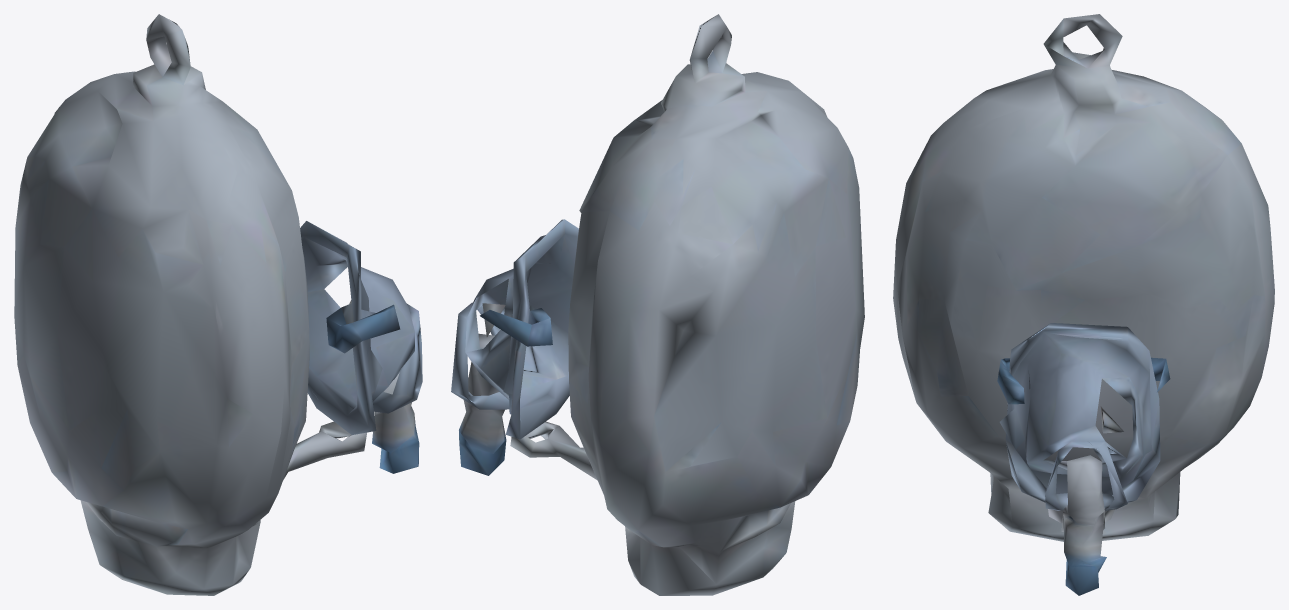
File: bvm.glb
3 renders of one model, left to right at view 1: azimuth 30°, elevation 25°; view 2: azimuth 150°, elevation 25°; view 3: azimuth 270°, elevation 25°, orthographic. The views are drawn at different scales.
Visible parts, largest first — view 1: tripo_node_4502c75b-7213-44ac-bf86-89a2121461b4; view 2: tripo_node_4502c75b-7213-44ac-bf86-89a2121461b4; view 3: tripo_node_4502c75b-7213-44ac-bf86-89a2121461b4.
Boxes of the visible parts, x1,y1,x2,y2 form: tripo_node_4502c75b-7213-44ac-bf86-89a2121461b4: [14, 14, 422, 595]; tripo_node_4502c75b-7213-44ac-bf86-89a2121461b4: [451, 14, 864, 595]; tripo_node_4502c75b-7213-44ac-bf86-89a2121461b4: [893, 14, 1274, 595].
Size of the model in its own units: 0.2076 by 0.3 by 0.2066.
1 material, 1 textured.
